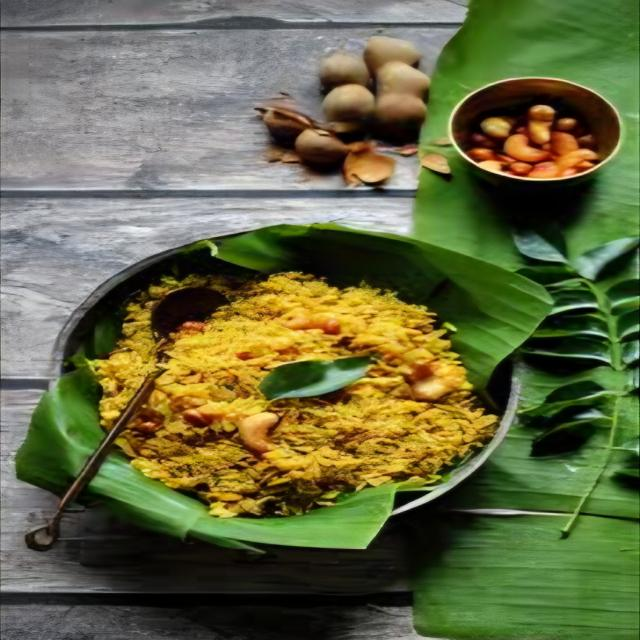RICE: (121, 275, 495, 518)
